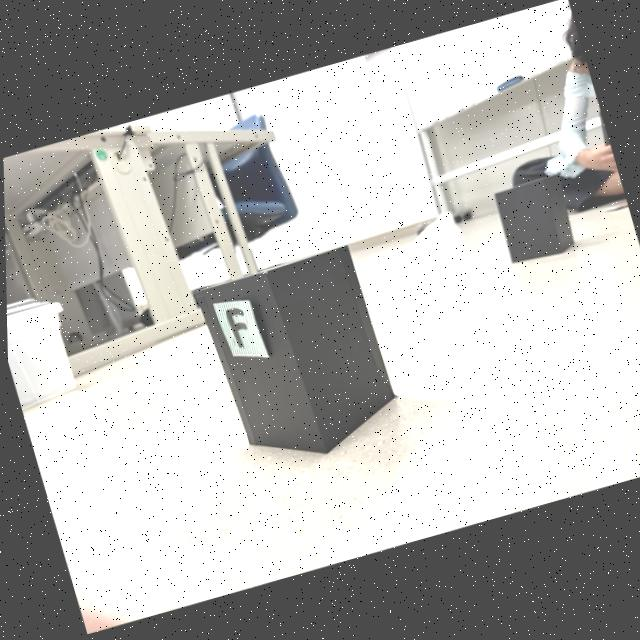F: (224, 307, 246, 348)
